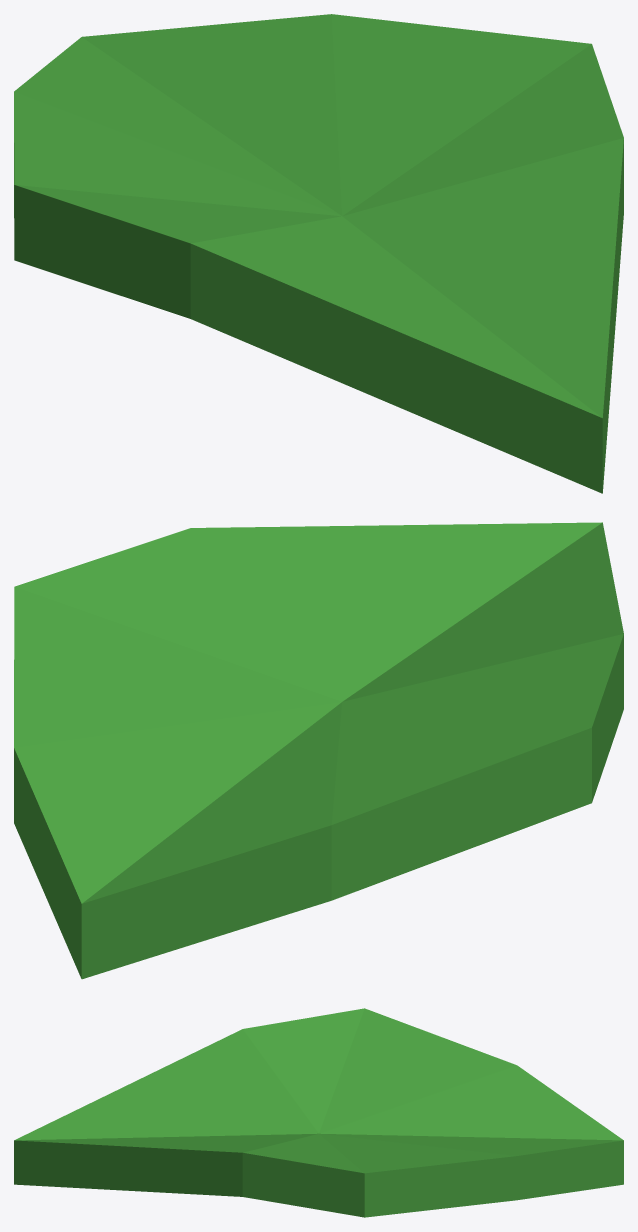
File: unit_leaf.glb
3 renders of one model, top to bottom at view 1: azimuth 30°, elevation 25°; view 2: azimuth 150°, elevation 25°; view 3: azimuth 270°, elevation 25°, orthographic. The views are drawn at different scales.
Parts seen in each view (by area): view 1: unit_leaf_leaf; view 2: unit_leaf_leaf; view 3: unit_leaf_leaf.
Boxes of the visible parts, x1=… form: unit_leaf_leaf: x1=14, y1=14, x2=623, y2=493; unit_leaf_leaf: x1=14, y1=522, x2=623, y2=979; unit_leaf_leaf: x1=14, y1=1008, x2=623, y2=1217.
Size of the model in its own units: 0.48 by 0.1272 by 0.75.
